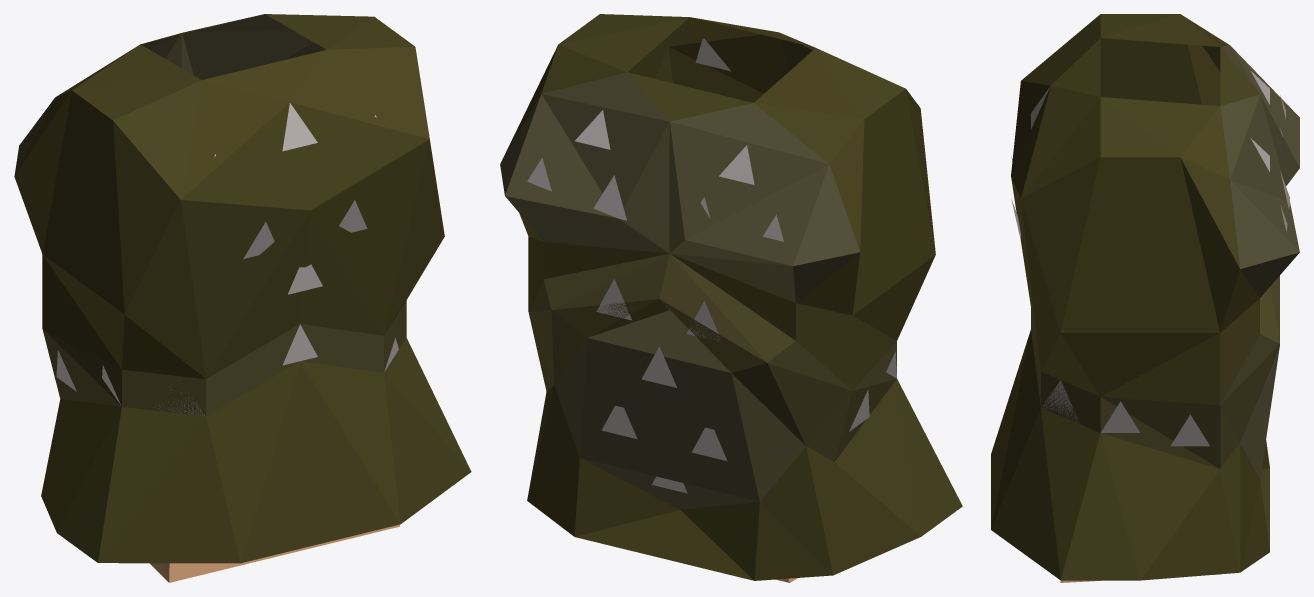
The model's file is npc_world_tower_archer_3_2.obj.
3 views of the same model, side by side, from view 1: azimuth 30°, elevation 25°; view 2: azimuth 150°, elevation 25°; view 3: azimuth 270°, elevation 25° (orthographic). The views are drawn at different scales.
Size of the model in its own units: 0.3281 by 0.3984 by 0.2422.
